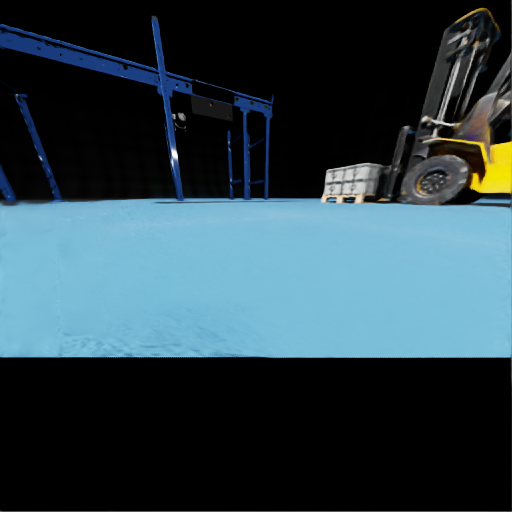transportation_area: (341, 179, 385, 194), (355, 164, 356, 166), (176, 83, 177, 84), (159, 79, 160, 80)
